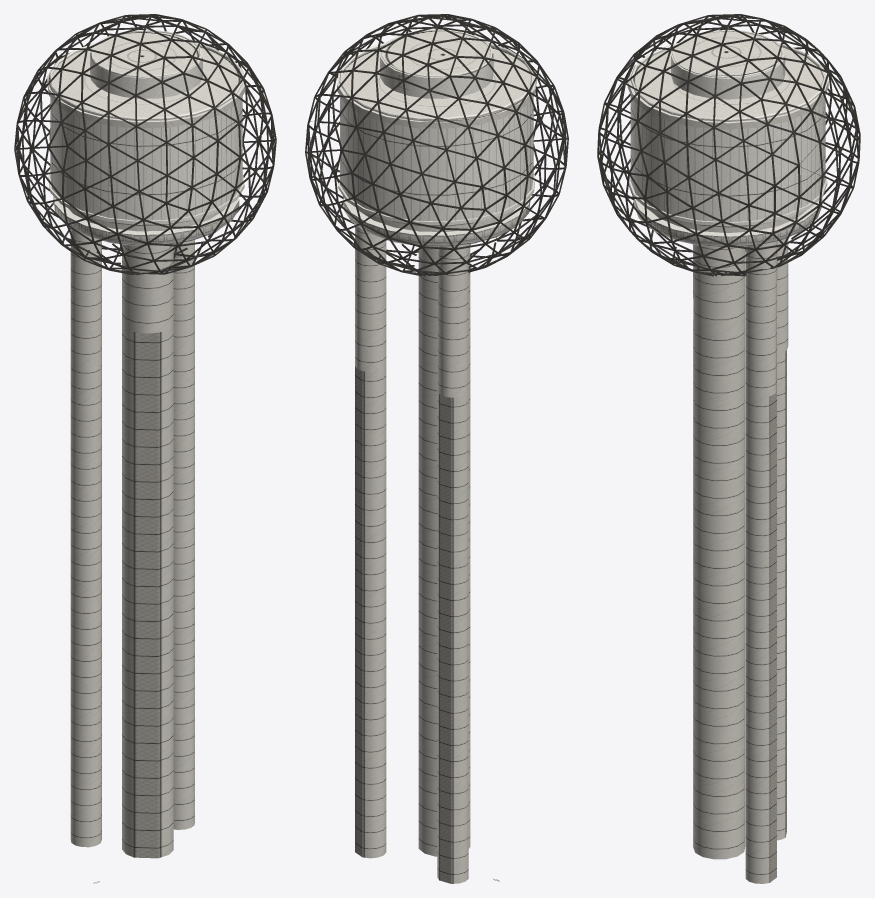
The model's file is sponsor-globe-flat-3.glb.
The picture shows the model from 3 angles, left to right: view 1: azimuth 30°, elevation 25°; view 2: azimuth 150°, elevation 25°; view 3: azimuth 270°, elevation 25°; orthographic projection.
Parts seen in each view (by area): view 1: MainRoom, Support2_SupportMAT_0.001, PlatonicSphere, Support2, Support2_SupportMAT_0.002; view 2: MainRoom, PlatonicSphere, Support2, Support2_SupportMAT_0.002, Support2_SupportMAT_0.001; view 3: MainRoom, Support2_SupportMAT_0.001, PlatonicSphere, Support2_SupportMAT_0.002, Support2.
Part boxes in pixels (x1=…): MainRoom: x1=47, y1=30, x2=245, y2=245; Support2_SupportMAT_0.001: x1=122, y1=244, x2=173, y2=858; PlatonicSphere: x1=14, y1=14, x2=276, y2=274; Support2: x1=70, y1=228, x2=101, y2=847; Support2_SupportMAT_0.002: x1=173, y1=240, x2=194, y2=829; MainRoom: x1=337, y1=29, x2=536, y2=246; PlatonicSphere: x1=305, y1=14, x2=568, y2=276; Support2: x1=437, y1=244, x2=468, y2=883; Support2_SupportMAT_0.002: x1=355, y1=224, x2=386, y2=858; Support2_SupportMAT_0.001: x1=418, y1=244, x2=470, y2=856; MainRoom: x1=627, y1=29, x2=828, y2=247; Support2_SupportMAT_0.001: x1=693, y1=244, x2=745, y2=859; PlatonicSphere: x1=597, y1=14, x2=860, y2=276; Support2_SupportMAT_0.002: x1=745, y1=241, x2=777, y2=883; Support2: x1=777, y1=238, x2=788, y2=840.
Size of the model in its own units: 26.06 by 92.43 by 26.1.
6 materials, 6 textured.
